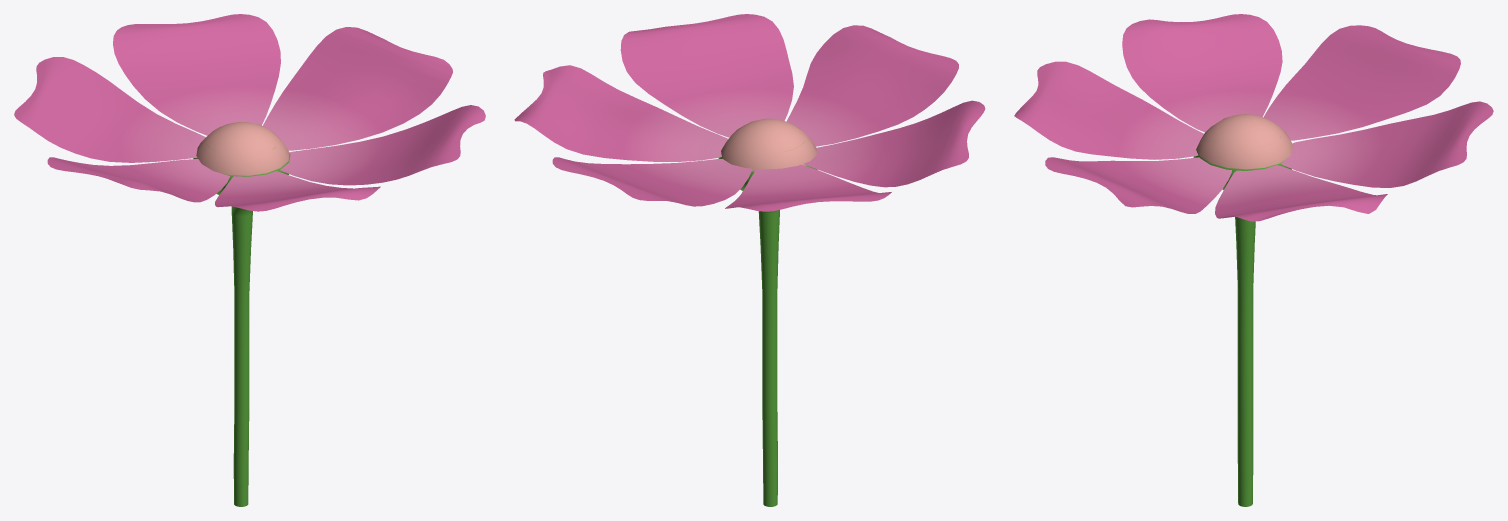
The model's file is NewFlower1.obj.
The picture shows the model from 3 angles, left to right: view 1: azimuth 30°, elevation 25°; view 2: azimuth 150°, elevation 25°; view 3: azimuth 270°, elevation 25°; orthographic projection. The views are drawn at different scales.
Parts seen in each view (by area): view 1: Flower_1; view 2: Flower_1; view 3: Flower_1.
Part boxes in pixels (bbox=[...]): Flower_1: bbox=[14, 14, 485, 506]; Flower_1: bbox=[514, 14, 985, 506]; Flower_1: bbox=[1014, 14, 1493, 506].
Size of the model in its own units: 4.24 by 3.91 by 4.22.
Materials: 3 (3 with a texture image).
